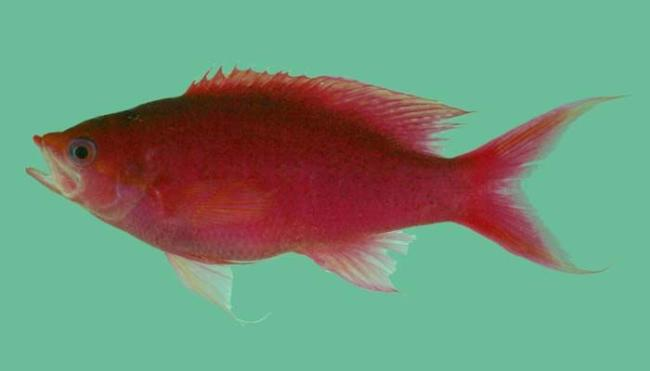fish: (26, 66, 635, 325)
